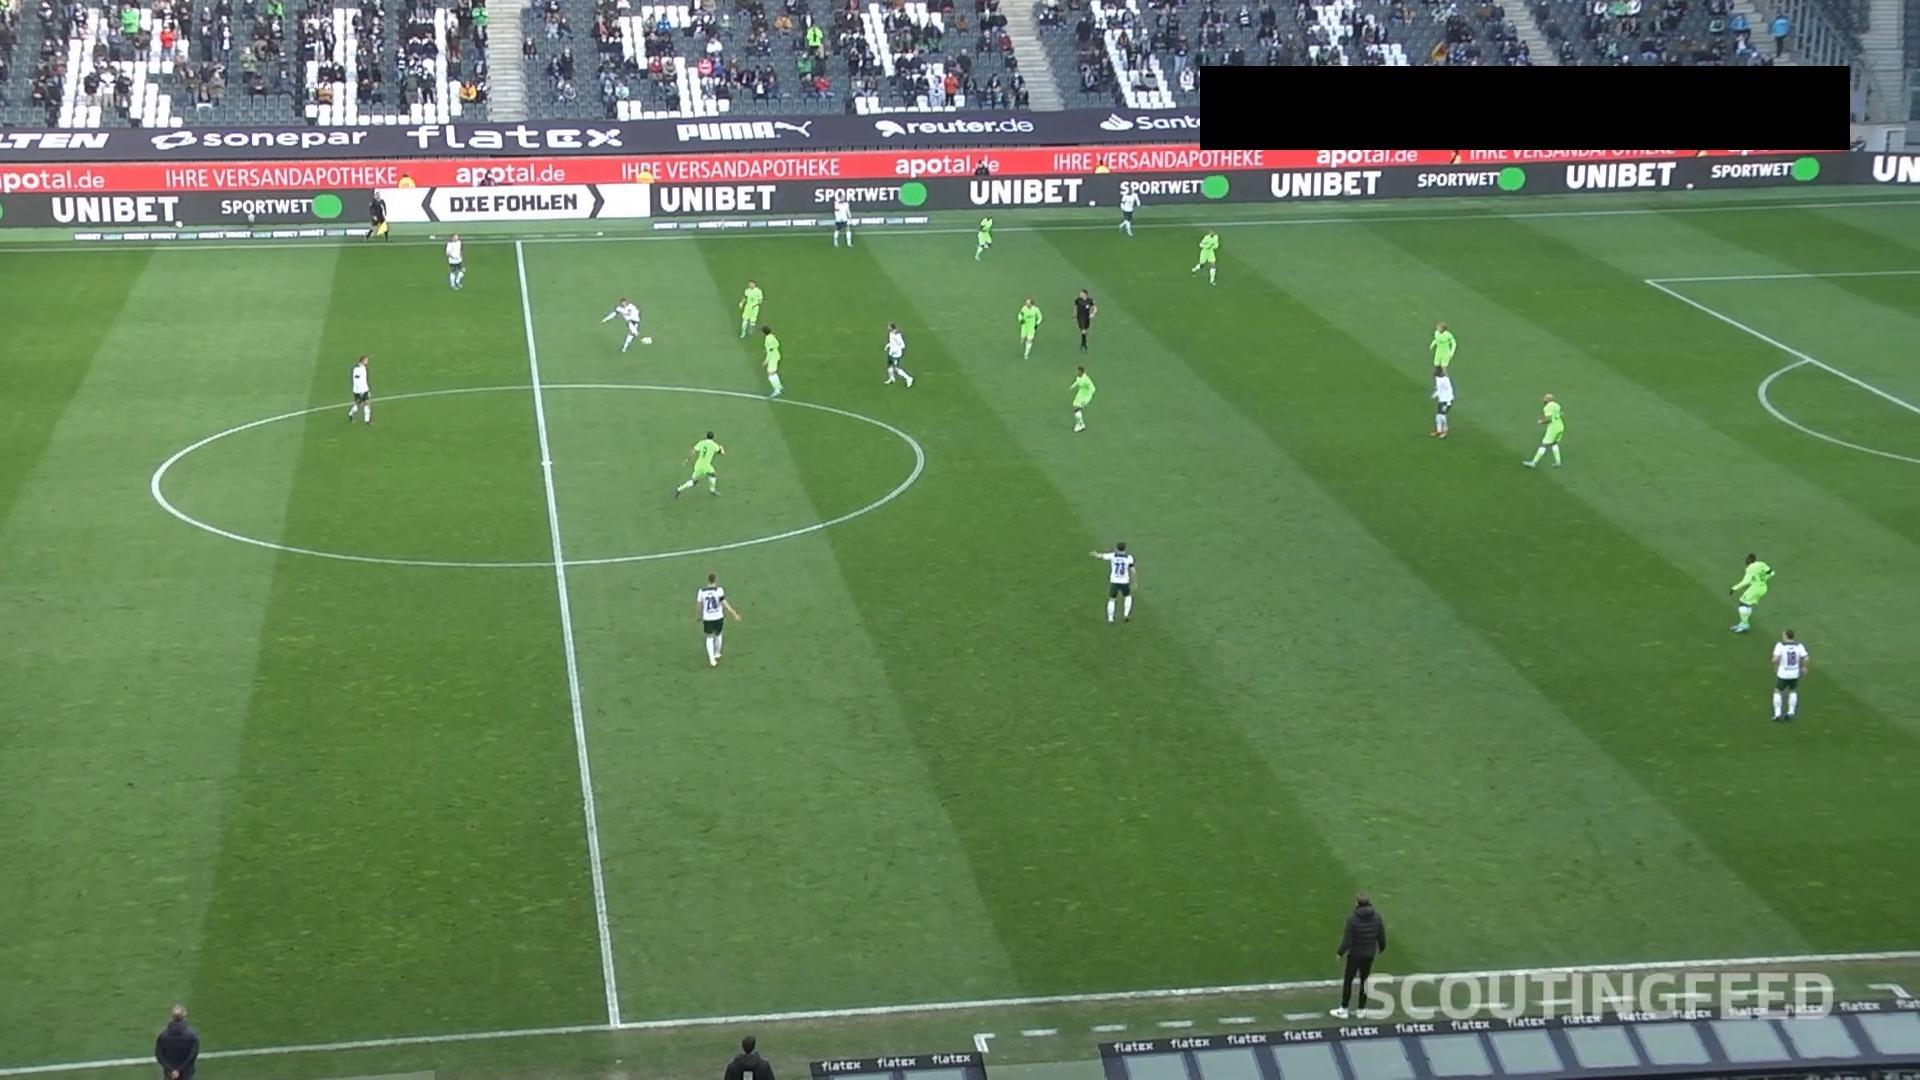ball: (640, 335, 653, 345)
